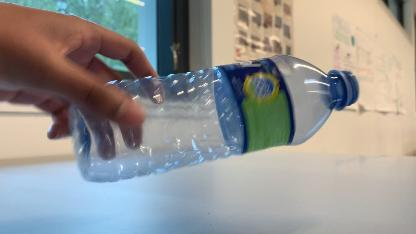Plastic Bottle: (67, 54, 358, 184)
